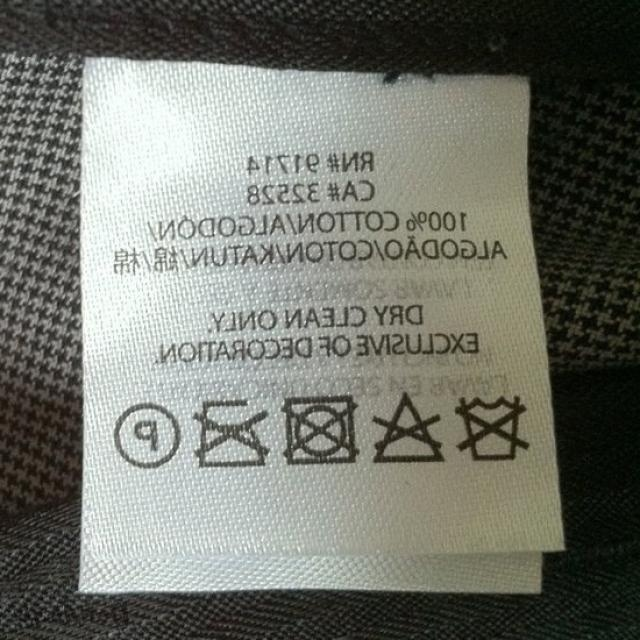DN_bleach: (373, 391, 444, 469)
DN_iron: (192, 394, 267, 475)
DN_tumble_dry: (281, 387, 361, 466)
DN_wash: (453, 389, 531, 467)
dry_clean_any_solvent_except_trichloroethylene: (111, 398, 181, 471)
